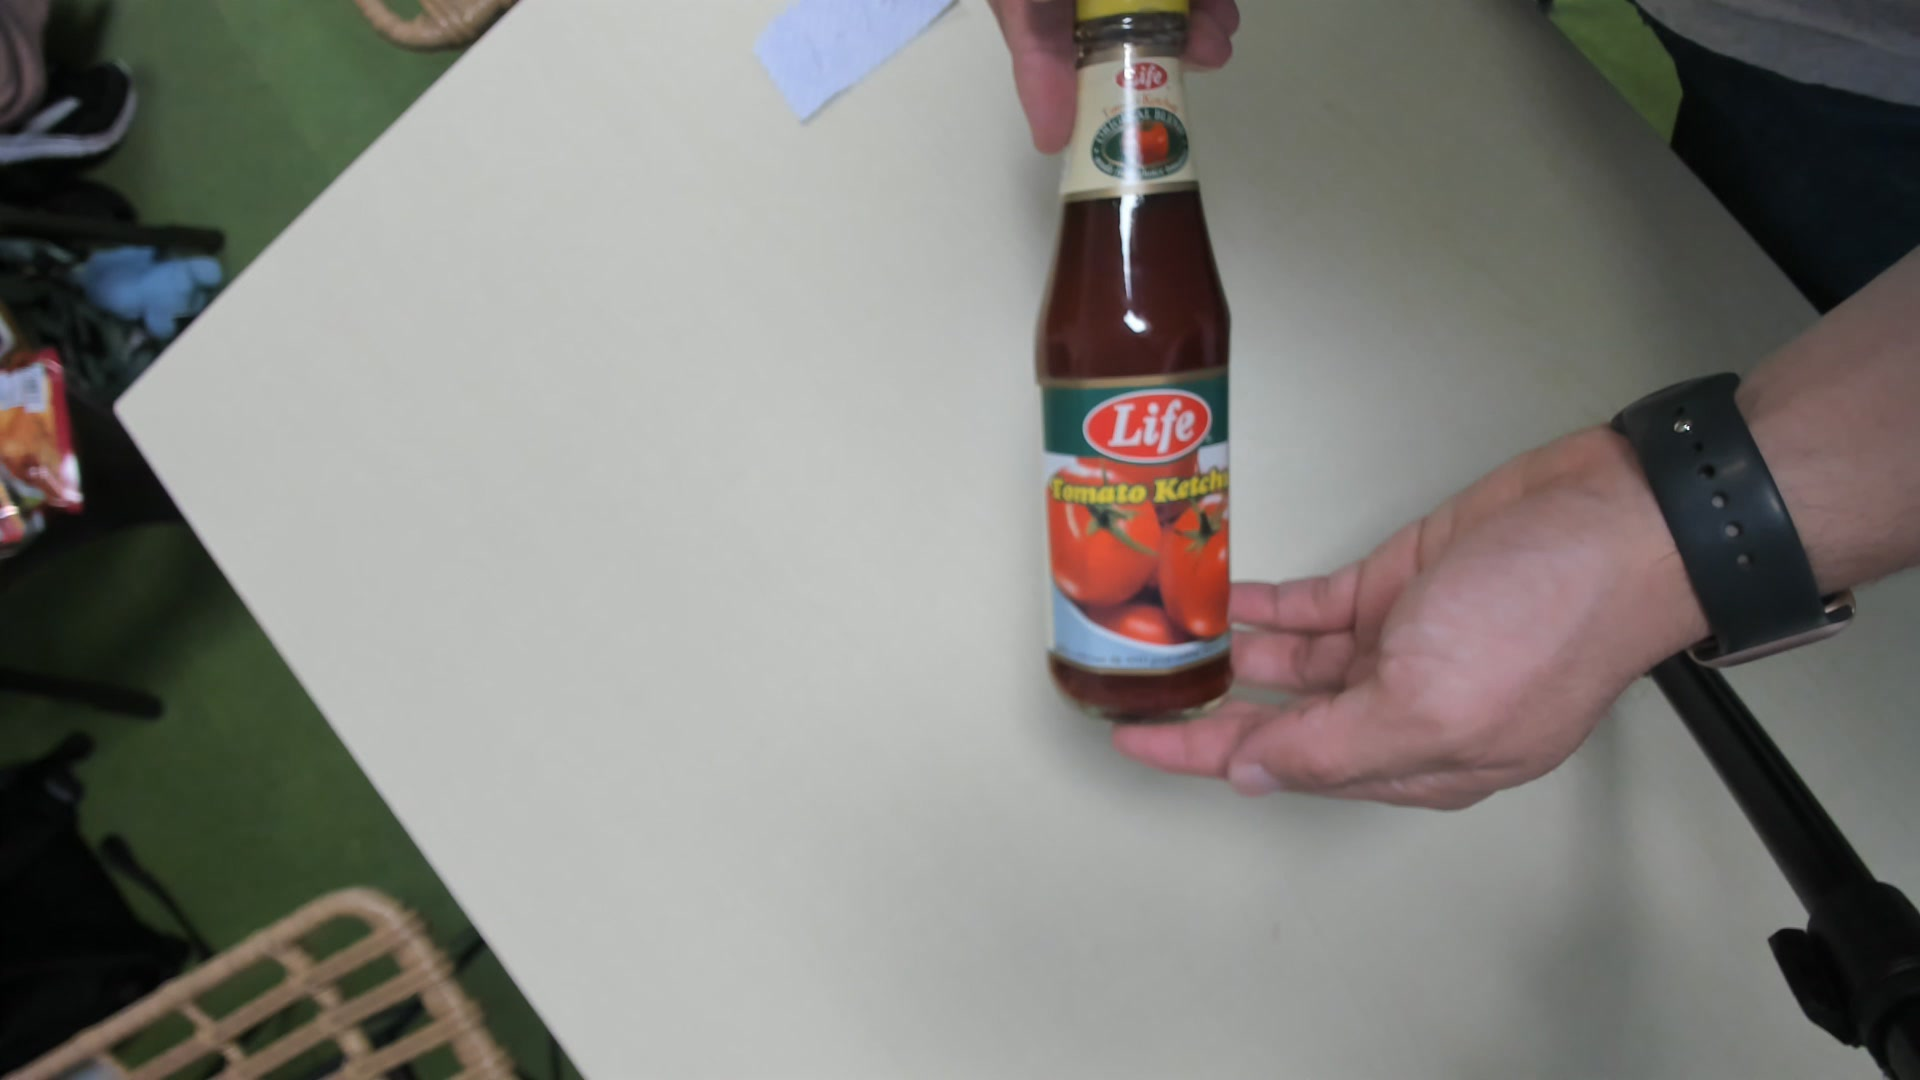KetchupChillSauce_300-399g_Halal_NonHealthy: (1025, 8, 1240, 727)
